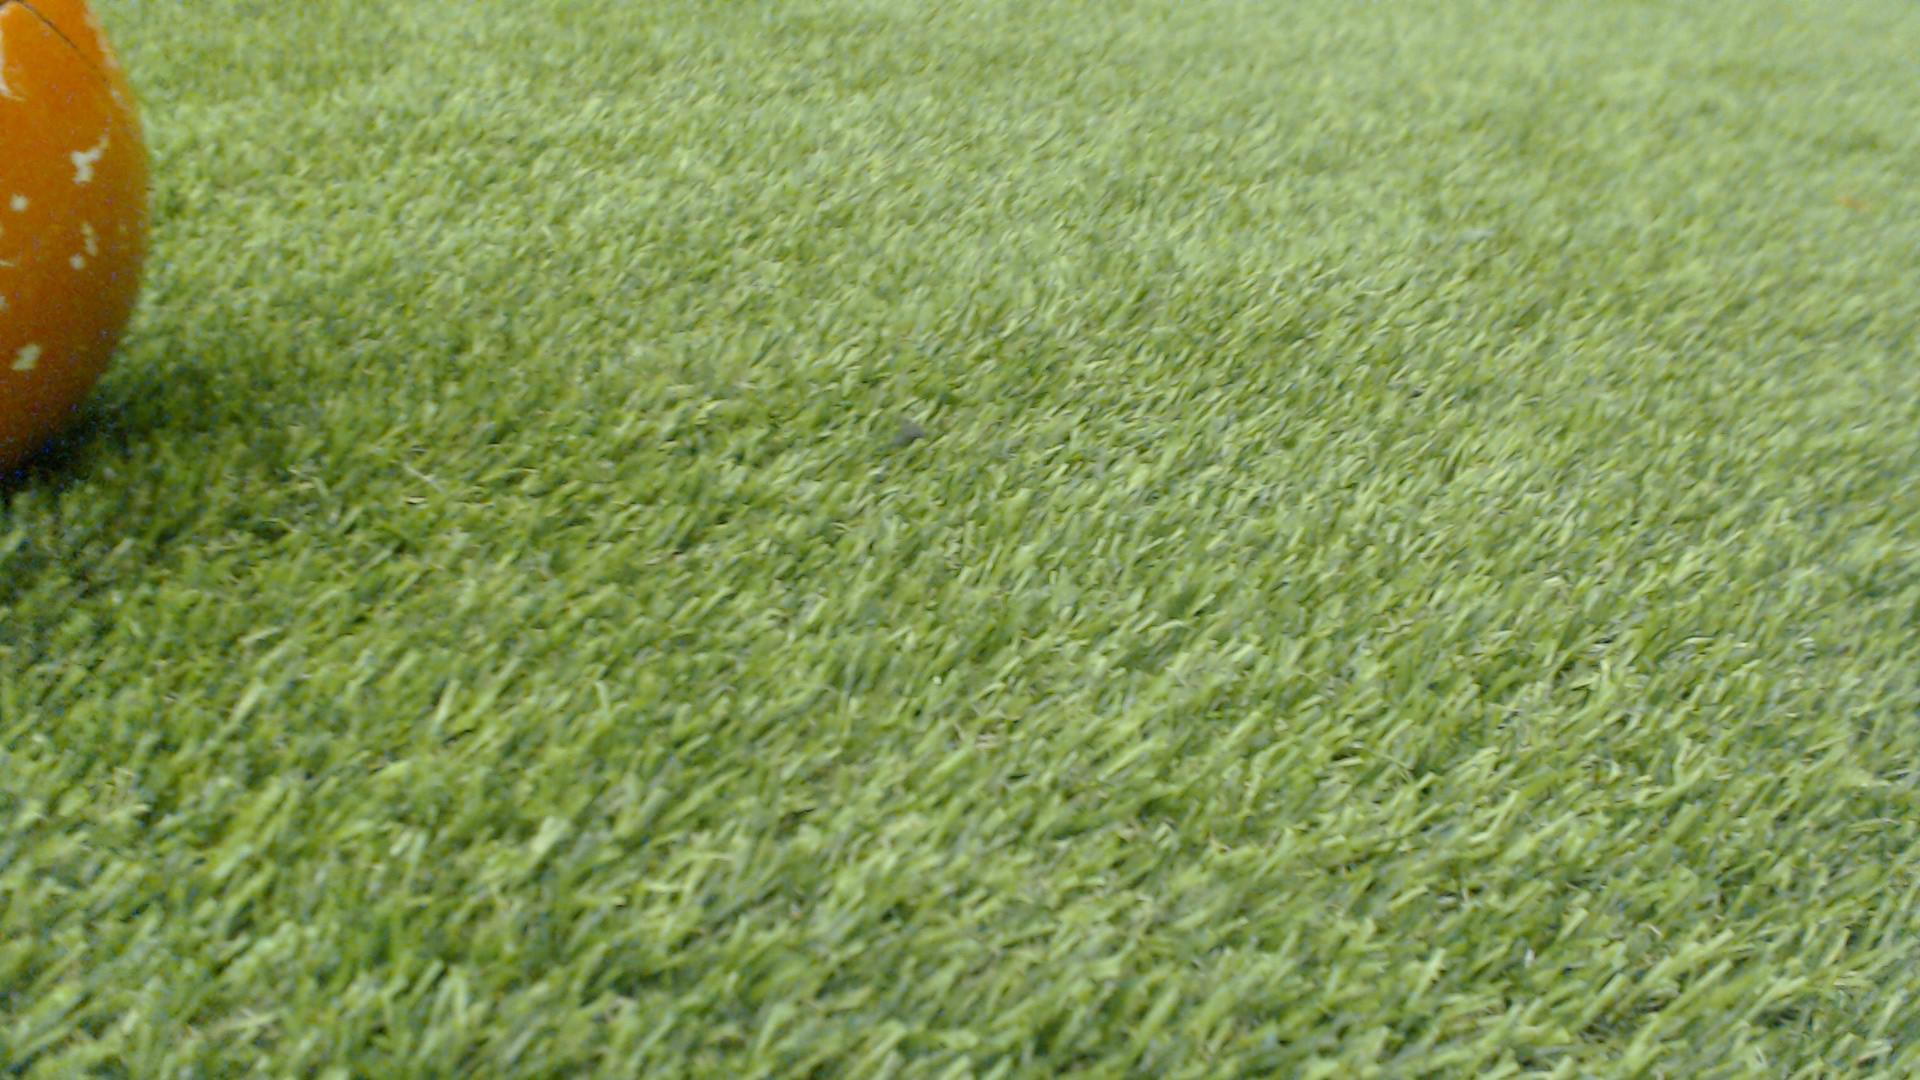bola: (0, 0, 203, 513)
